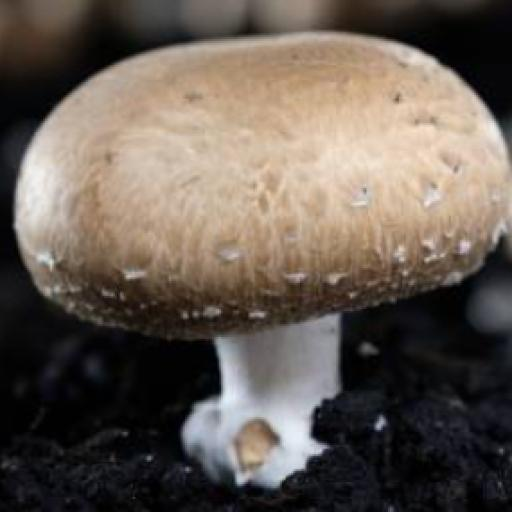Button Mushroom: (14, 32, 506, 453)
